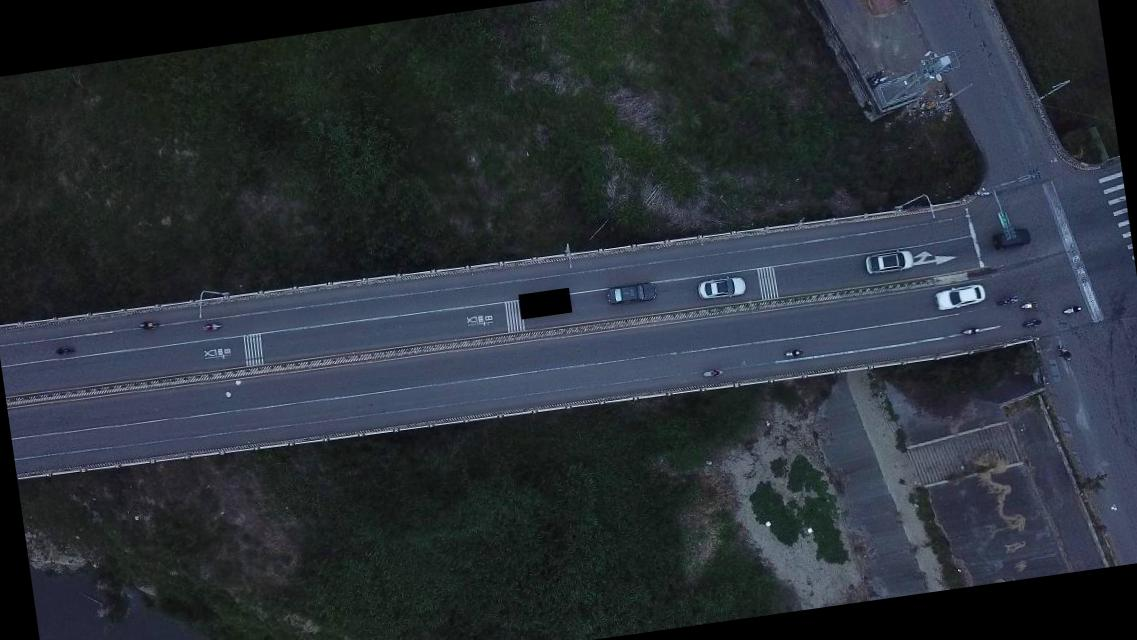vehicle: (935, 282, 988, 314), (696, 272, 748, 304), (864, 246, 918, 275), (604, 280, 657, 308), (990, 225, 1034, 251)
